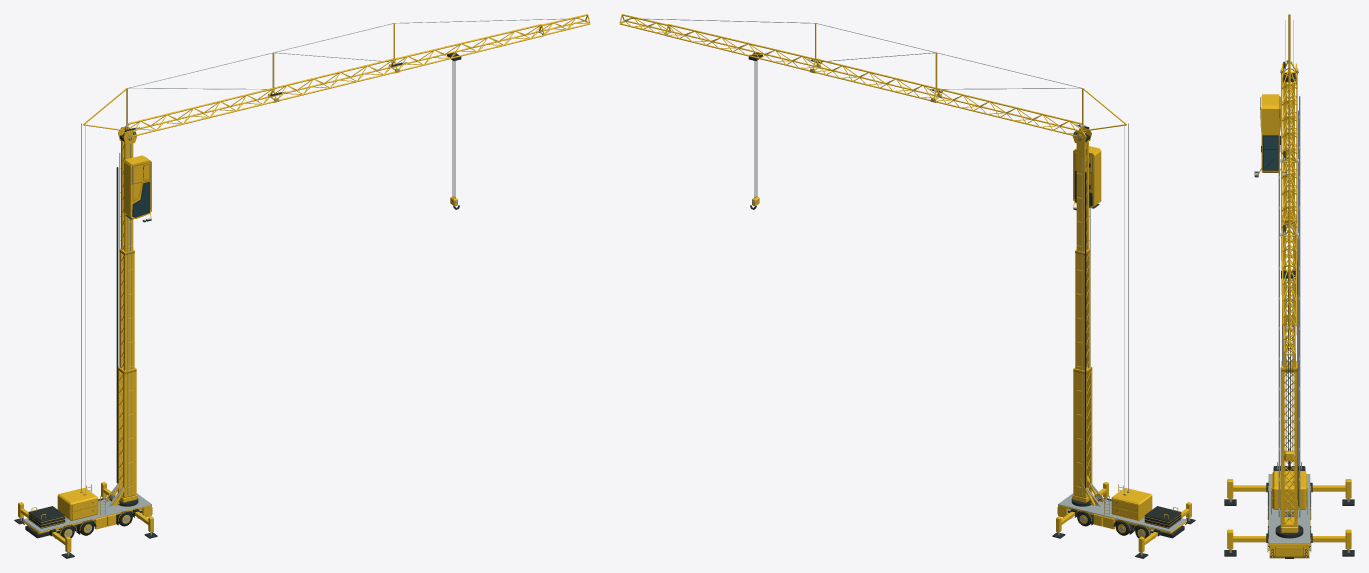
Rendered from cityboy-working.glb.
3 views of the same model, side by side, from view 1: azimuth 30°, elevation 25°; view 2: azimuth 150°, elevation 25°; view 3: azimuth 270°, elevation 25° (orthographic). The views are drawn at different scales.
Parts seen in each view (by area): view 1: CityBoy_Working/paint, CityBoy_Working/steel, CityBoy_Working/dark; view 2: CityBoy_Working/paint, CityBoy_Working/steel, CityBoy_Working/dark; view 3: CityBoy_Working/paint, CityBoy_Working/steel, CityBoy_Working/dark, CityBoy_HoistLines/dark, CityBoy_Working/roofglass, CityBoy_Working/edge.
Boxes of the visible parts, <box> form: CityBoy_Working/paint: <box>18,14,590,552</box>; CityBoy_Working/steel: <box>20,18,577,555</box>; CityBoy_Working/dark: <box>14,52,461,558</box>; CityBoy_Working/paint: <box>619,14,1191,552</box>; CityBoy_Working/steel: <box>632,18,1189,555</box>; CityBoy_Working/dark: <box>748,52,1195,558</box>; CityBoy_Working/paint: <box>1227,14,1351,558</box>; CityBoy_Working/steel: <box>1229,14,1349,552</box>; CityBoy_Working/dark: <box>1224,61,1354,558</box>; CityBoy_HoistLines/dark: <box>1286,279,1292,451</box>; CityBoy_Working/roofglass: <box>1263,136,1277,169</box>; CityBoy_Working/edge: <box>1261,81,1306,556</box>.
Bounding box in the file's own units: 48.44 × 35.76 × 7.84.
